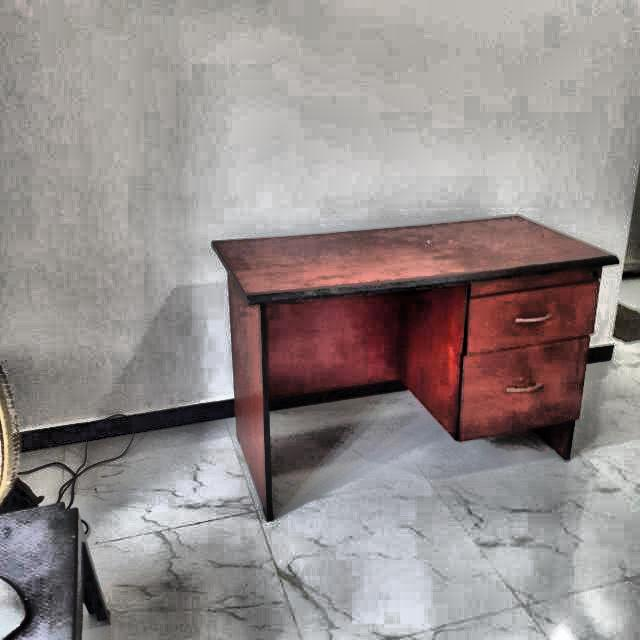mesa: (200, 185, 626, 528)
